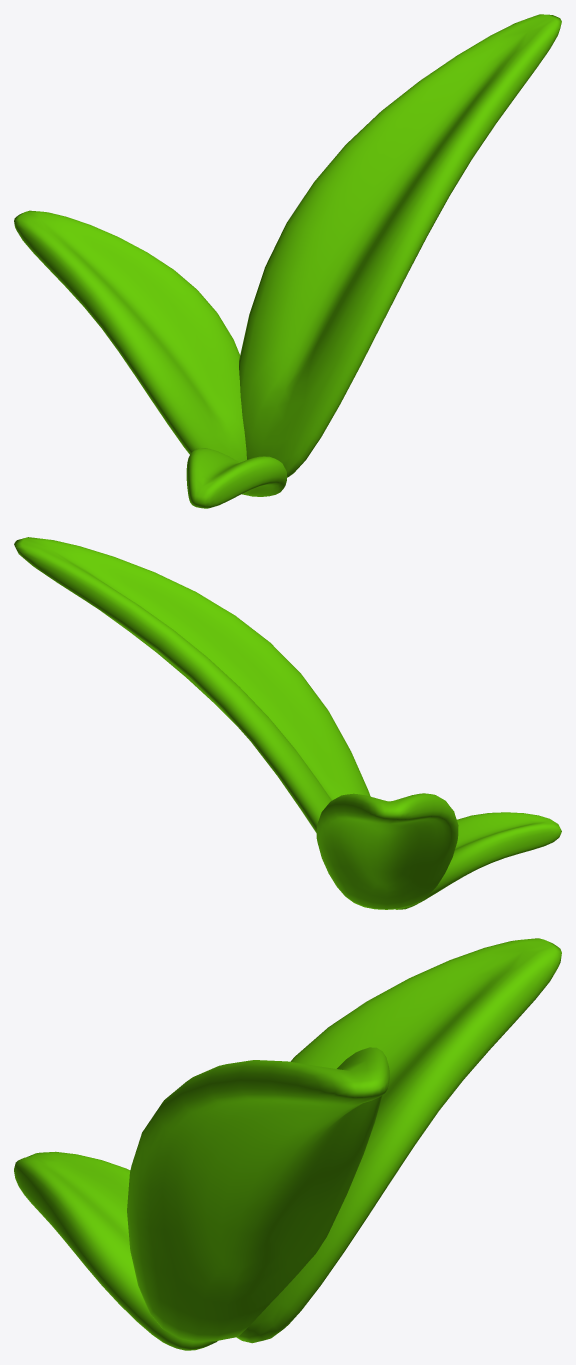
File: grass.fbx
3 renders of one model, top to bottom at view 1: azimuth 30°, elevation 25°; view 2: azimuth 150°, elevation 25°; view 3: azimuth 270°, elevation 25°, orthographic. The views are drawn at different scales.
Parts seen in each view (by area): view 1: grass; view 2: grass; view 3: grass.
Boxes of the visible parts, bbox=[...] form: grass: bbox=[14, 14, 561, 508]; grass: bbox=[14, 537, 561, 909]; grass: bbox=[14, 938, 561, 1350].
Size of the model in its own units: 157 by 109 by 106.
